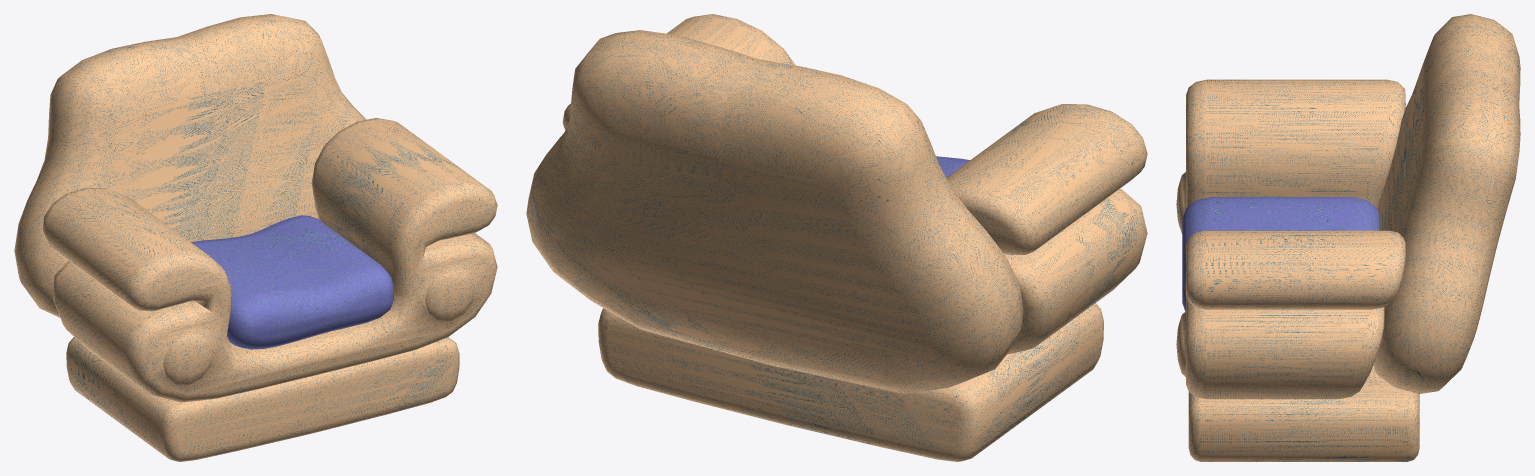
File: sofa1_1.dae
3 views of the same model, side by side, from view 1: azimuth 30°, elevation 25°; view 2: azimuth 150°, elevation 25°; view 3: azimuth 270°, elevation 25° (orthographic). The views are drawn at different scales.
Visible parts, largest first — view 1: chair.dxf (×6); view 2: chair.dxf (×3); view 3: chair.dxf (×6).
Part boxes in pixels (box(x1,y1,x2,y2)): chair.dxf (×6): box(14, 14, 497, 461); chair.dxf (×3): box(526, 14, 1147, 461); chair.dxf (×6): box(1176, 14, 1520, 461).
Bounding box in the file's own units: 48.03 × 35.43 × 37.9.
Materials: 3 (1 with a texture image).
